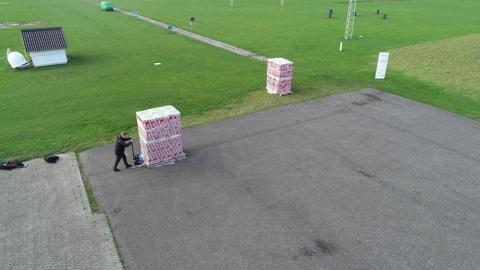RockwoolPallet: (134, 107, 185, 163)
